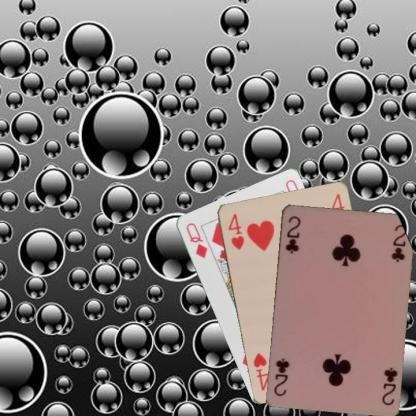2c: (379, 364, 399, 406), (282, 212, 301, 254)
4h: (225, 210, 245, 252)
Qd: (183, 219, 209, 260)
